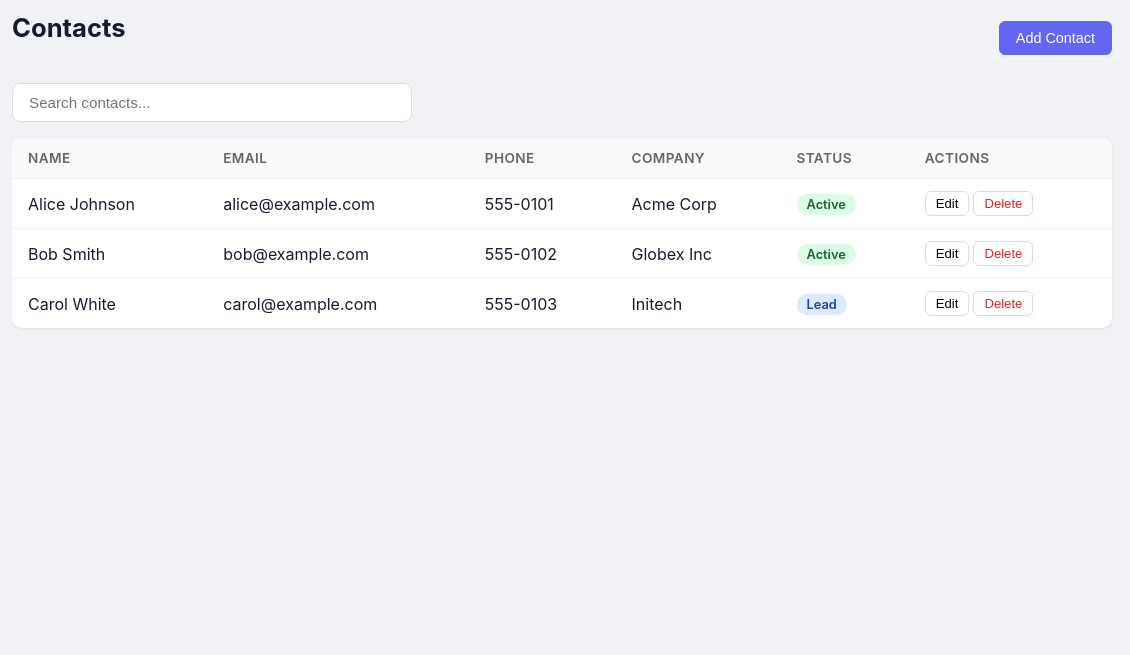
Test: Contacts › opens add contact form when clicking Add Contact
Click the button "Add Contact".
click(1055, 38)  # box [999,20,1112,54]
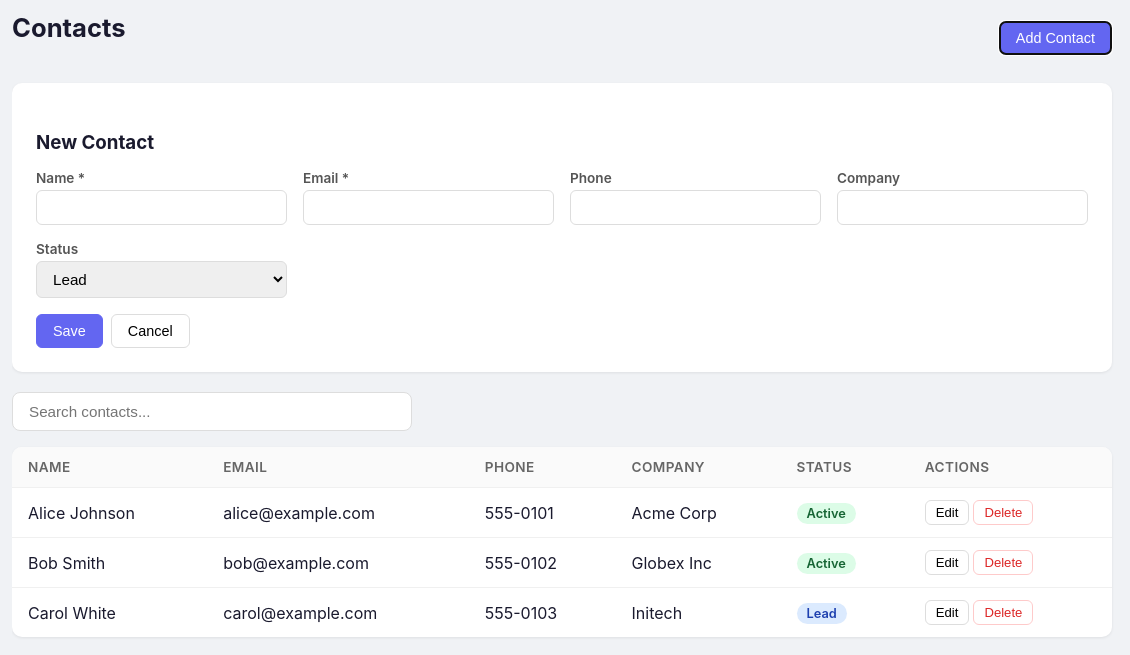
Check: the heading "New Contact" is shown, box [36,131,154,154]
